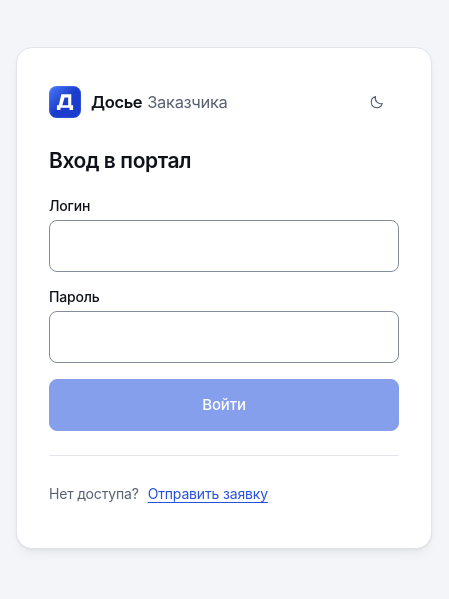
Test: вход › неверный пароль — текст ошибки, экран входа остаётся, поле пароля очищено
The image size is (449, 599).
Type "ivanov" into the field labelled "Логин" at (224, 246), box [49,220,399,272]
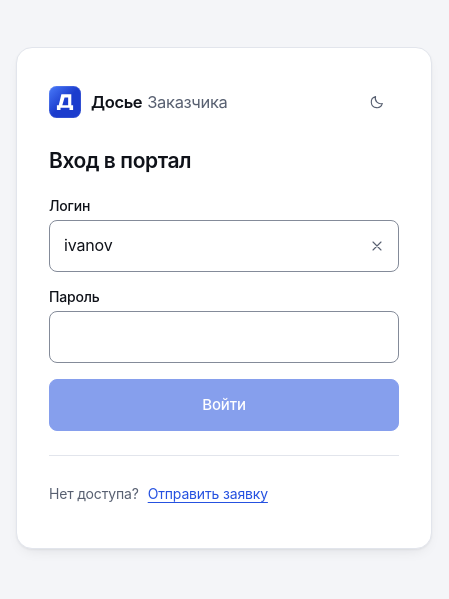
Type "wrong-password" into the password field labelled "Пароль" at (224, 337), box [49,311,399,363]
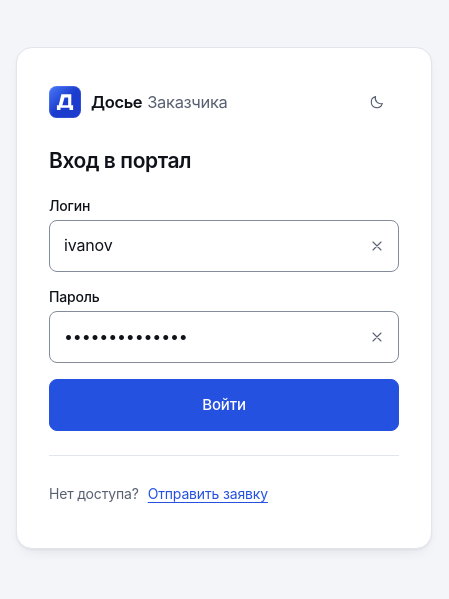
Click the button "Войти" at (224, 405), box [49,379,399,431]
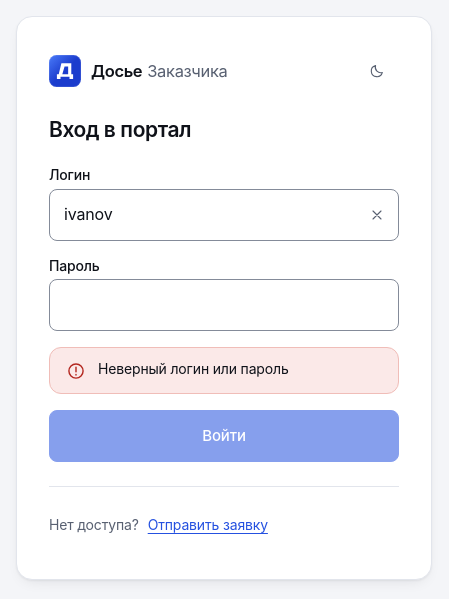
Now the message reads "Неверный логин или пароль", box [98,360,289,378]
Now the password field labelled "Пароль" is empty, box [49,280,399,332]
